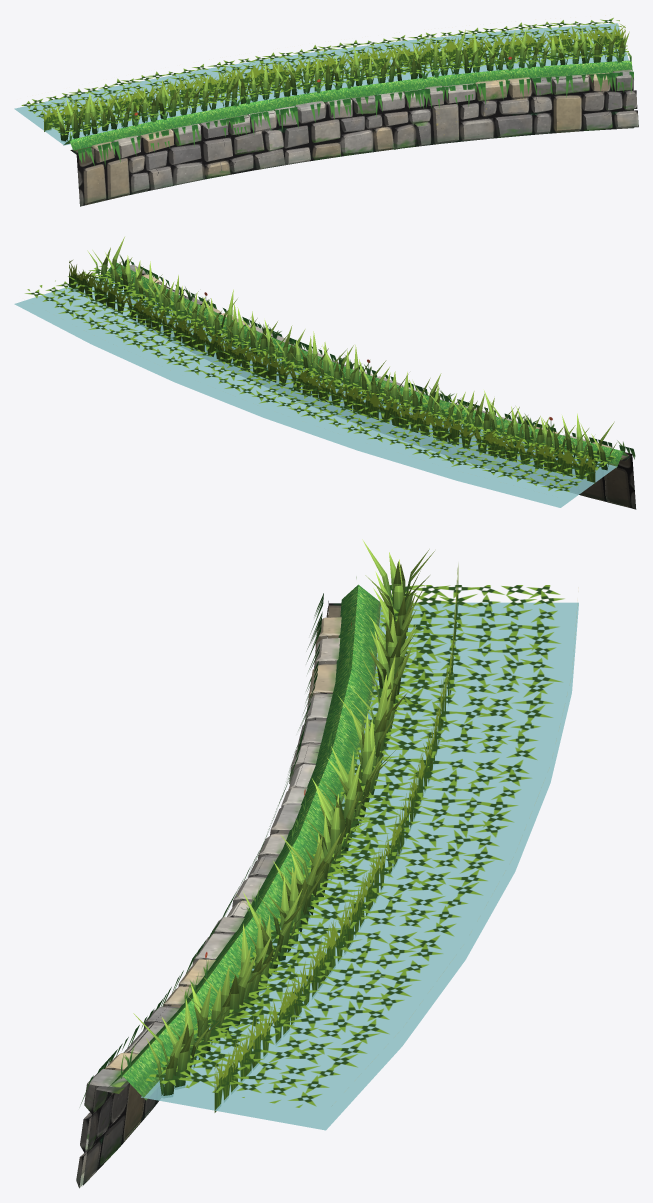
The model's file is terrace_concave_young_mid_plain.glb.
3 views of the same model, one above another, from view 1: azimuth 30°, elevation 25°; view 2: azimuth 150°, elevation 25°; view 3: azimuth 270°, elevation 25° (orthographic). The views are drawn at different scales.
Parts seen in each view (by area): view 1: terrace_concave_young_mid_plain_wall, terrace_concave_young_mid_plain_cards, terrace_concave_young_mid_plain_lip, terrace_concave_young_mid_plain_water, terrace_concave_young_mid_plain_dike; view 2: terrace_concave_young_mid_plain_cards, terrace_concave_young_mid_plain_water, terrace_concave_young_mid_plain_lip, terrace_concave_young_mid_plain_dike, terrace_concave_young_mid_plain_wall; view 3: terrace_concave_young_mid_plain_water, terrace_concave_young_mid_plain_cards, terrace_concave_young_mid_plain_lip, terrace_concave_young_mid_plain_dike, terrace_concave_young_mid_plain_wall.
Boxes of the visible parts, x1,y1,x2,y2 form: terrace_concave_young_mid_plain_wall: (70, 69, 638, 206); terrace_concave_young_mid_plain_cards: (21, 17, 633, 166); terrace_concave_young_mid_plain_lip: (56, 23, 629, 141); terrace_concave_young_mid_plain_water: (14, 23, 628, 145); terrace_concave_young_mid_plain_dike: (63, 60, 632, 150); terrace_concave_young_mid_plain_cards: (25, 254, 635, 491); terrace_concave_young_mid_plain_water: (14, 276, 617, 507); terrace_concave_young_mid_plain_lip: (87, 237, 616, 470); terrace_concave_young_mid_plain_dike: (107, 262, 627, 468); terrace_concave_young_mid_plain_wall: (129, 264, 636, 509); terrace_concave_young_mid_plain_water: (141, 602, 578, 1130); terrace_concave_young_mid_plain_cards: (80, 564, 564, 1112); terrace_concave_young_mid_plain_lip: (133, 539, 434, 1097); terrace_concave_young_mid_plain_dike: (108, 584, 381, 1100); terrace_concave_young_mid_plain_wall: (76, 601, 341, 1188).
Size of the model in its own units: 12.79 by 1.97 by 5.15.
Materials: 5 (4 with a texture image).
